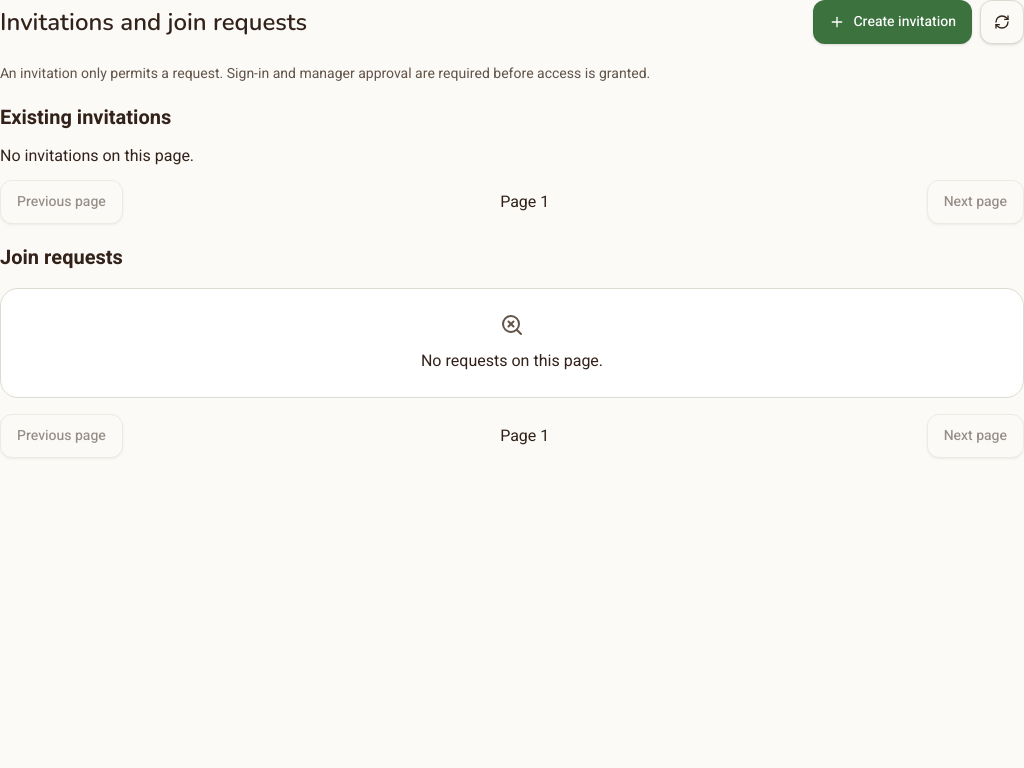
keeps the invitation draft open on failure and cancels without creating a link
This screenshot has width=1024, height=768.
Click the button "Create invitation".
click(893, 22)  # box [814,0,972,44]
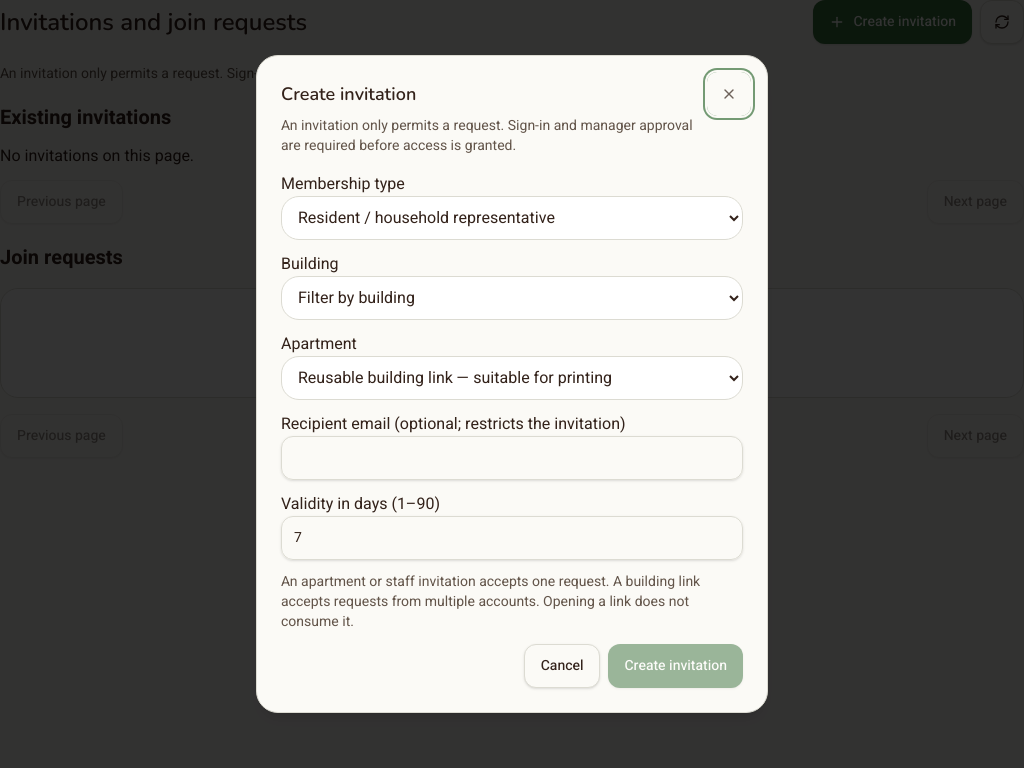
Select "Scoped building" in the dropdown labelled "Building" at (512, 298), box [281,276,743,320]
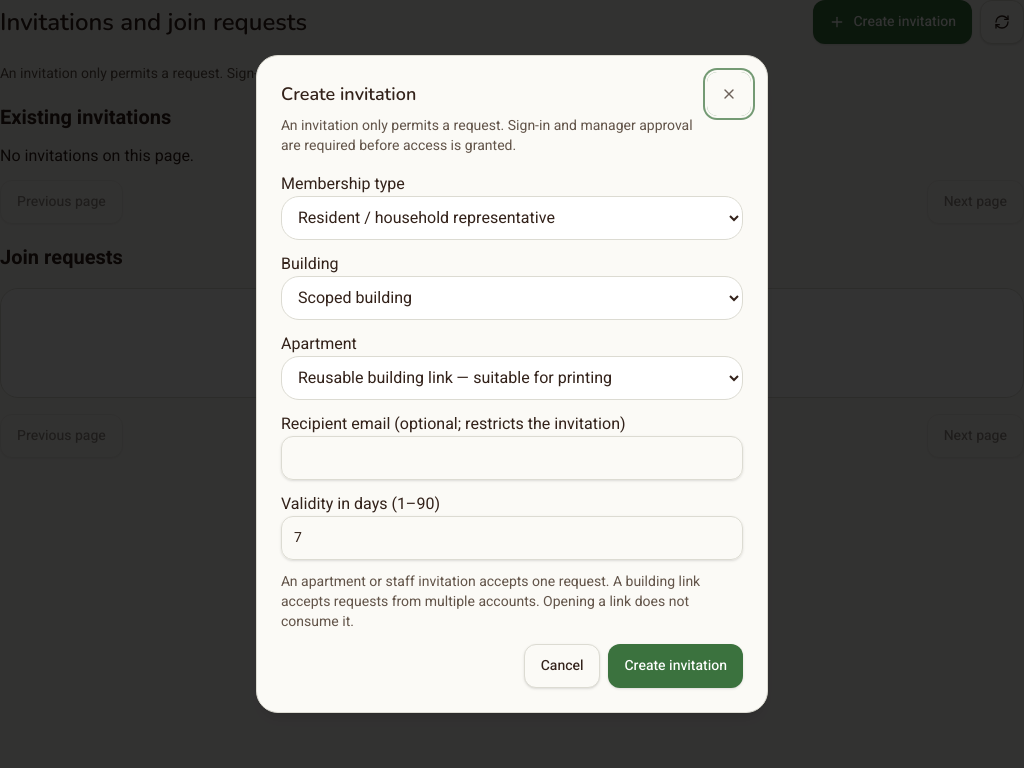
Type "new@example.test" into the field labelled "Recipient email (optional; restricts the invitation)".
click(512, 458); type("new@example.test")  # box [281,436,743,480]
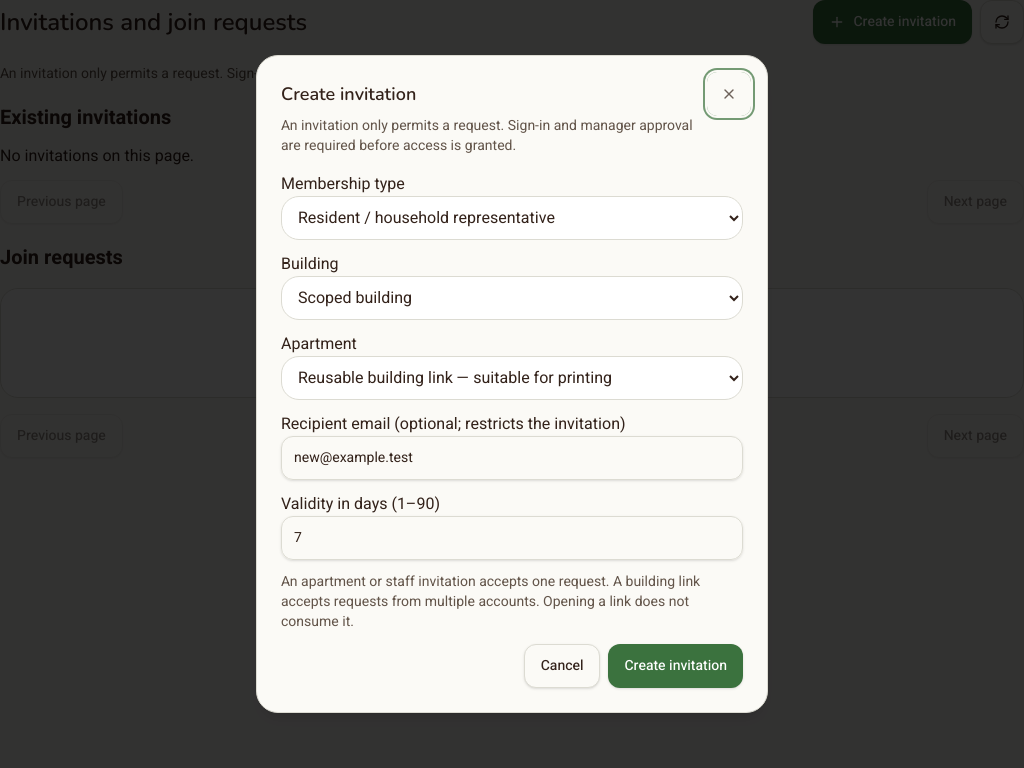
Submit the form named "Create invitation", box [281,172,743,688]
Result: the dialog is shown at [256,55,768,713]
Click the button "Cancel".
click(562, 666)  # box [524,644,600,688]
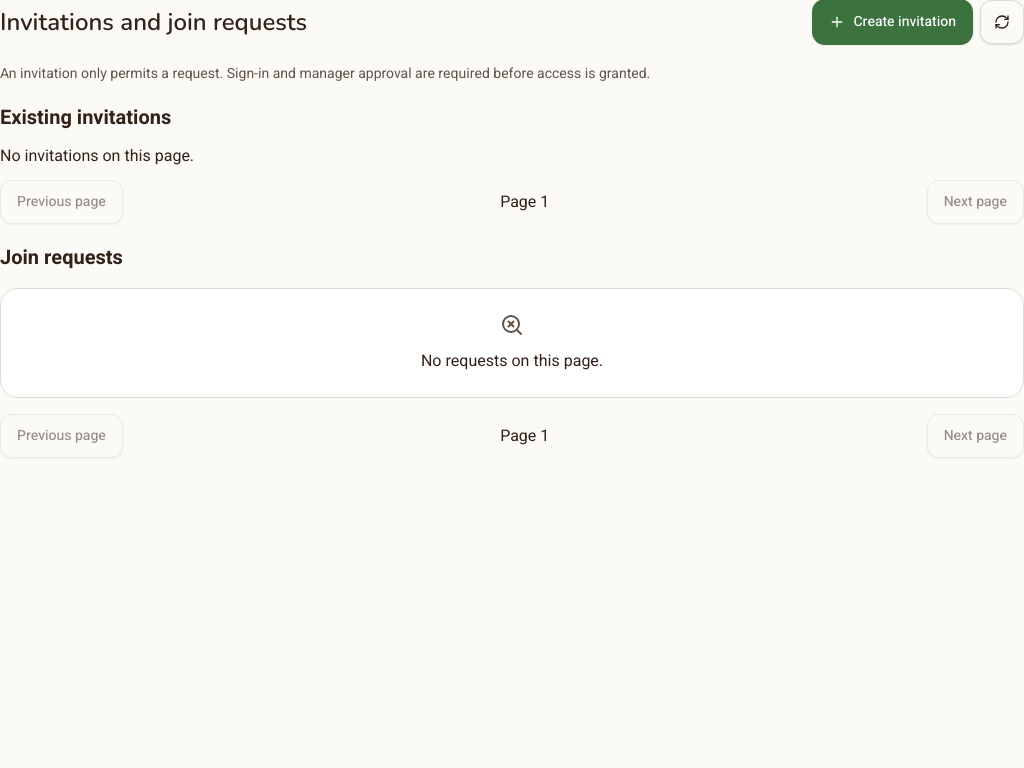
Result: the dialog is gone
